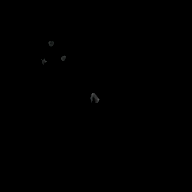v: (38, 39, 67, 64)
